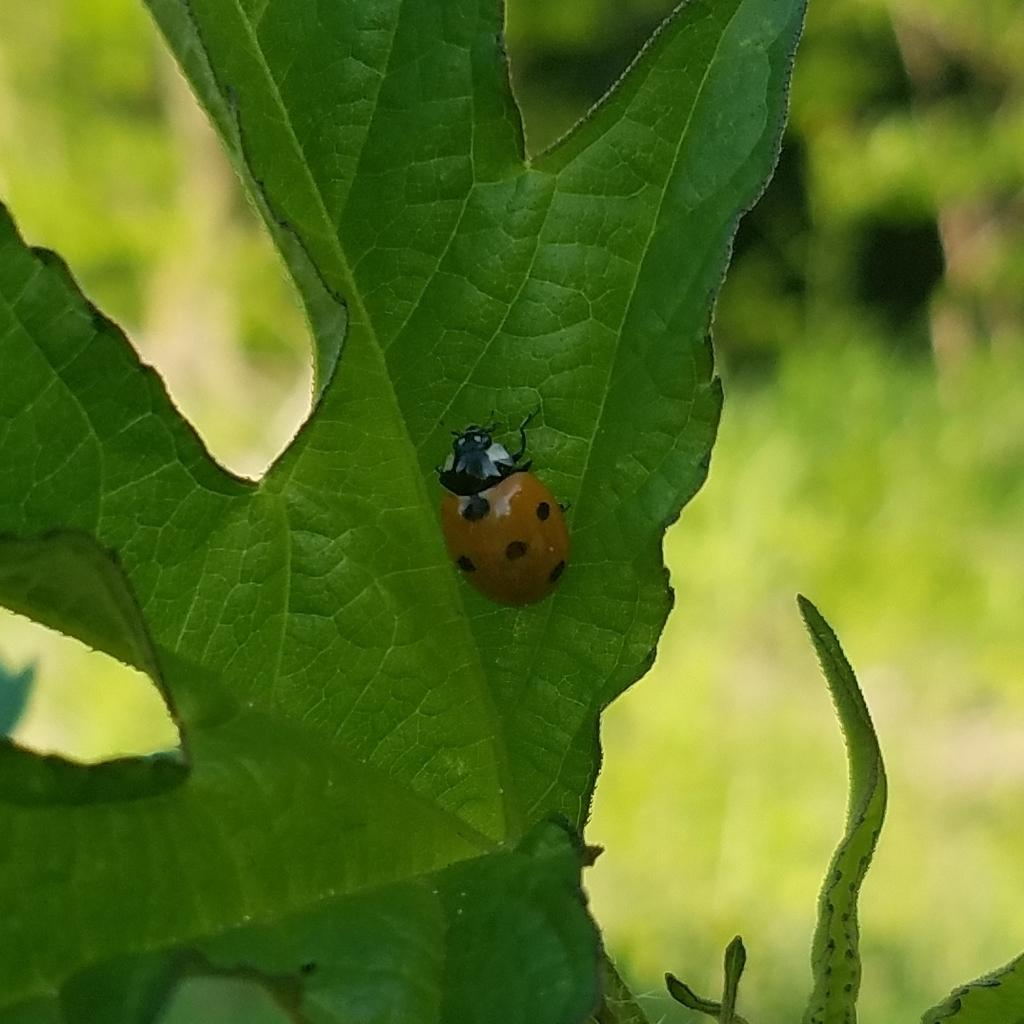ladybug: (434, 403, 575, 609)
